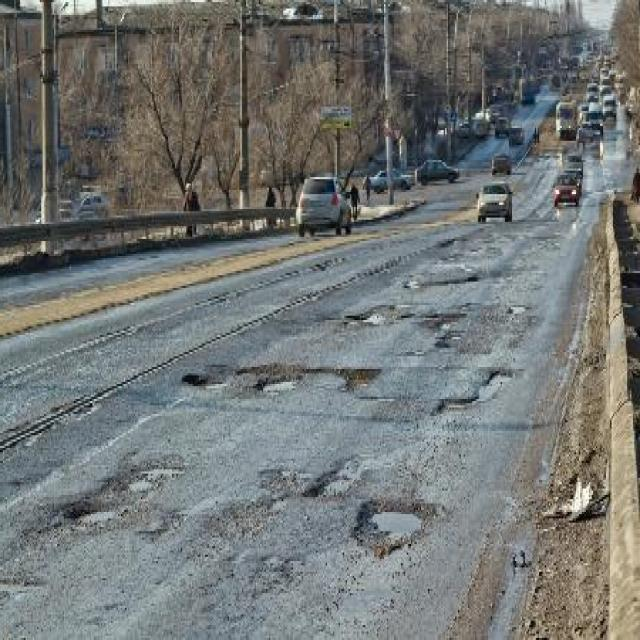pothole: (61, 458, 186, 522), (353, 495, 441, 557), (432, 365, 518, 416), (302, 464, 356, 502), (338, 300, 392, 330), (237, 358, 313, 376), (340, 362, 384, 392), (254, 371, 306, 393), (426, 307, 466, 333), (182, 366, 214, 388), (508, 298, 530, 314), (402, 275, 422, 290)
